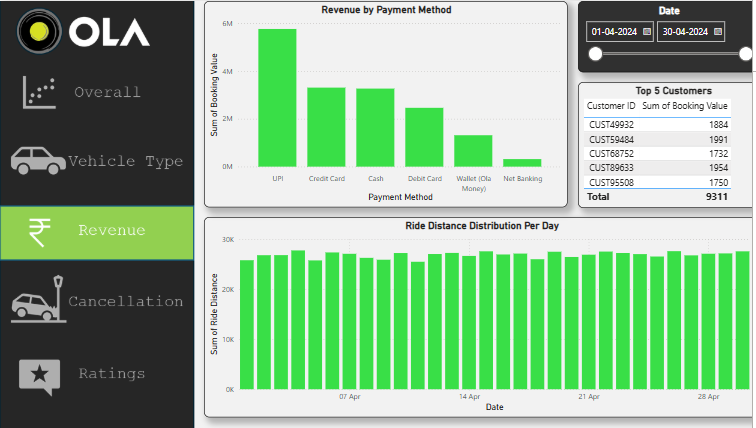

This screenshot's page, from the dashboard's own definition file:
{"tool":"powerbi","page":{"name":"Revenue","canvas":[1280,720],"ordinal":2},"visuals":[{"type":"actionButton","box":[0,455,325,93.3],"z":0},{"type":"actionButton","box":[0,110,325,93.3],"z":1000},{"type":"actionButton","box":[0,571.7,325,93.3],"z":2000},{"type":"actionButton","box":[0,225,325,93.3],"z":3000},{"type":"columnChart","title":" Revenue by Payment Method","fields":{"Y":["Sum(Bookings.Booking Value)"],"Category":["Bookings.Payment Method"]},"box":[339.3,0,606.4,344.4],"z":4000},{"type":"columnChart","title":" Ride Distance Distribution Per Day","fields":{"Y":["Sum(Bookings.Ride Distance)"],"Category":["Bookings.Date"]},"box":[339.3,359.5,925.6,334.3],"z":5000},{"type":"slicer","title":"Date","fields":{"Values":["Bookings.Date"]},"box":[962.5,0,302.4,119.3],"z":6000},{"type":"tableEx","title":"Top 5 Customers","fields":{"Values":["Bookings.Customer ID","Sum(Bookings.Booking Value)"]},"box":[962.5,134.4,317.5,210],"z":7000}]}

Visuals, with their boxes in screenshot pixels (x1, y1, x2, y2), scaled from the page's 1280x720 canvas onto the 756x428 screenshot:
actionButton: x1=0, y1=270, x2=192, y2=326
actionButton: x1=0, y1=65, x2=192, y2=121
actionButton: x1=0, y1=340, x2=192, y2=395
actionButton: x1=0, y1=134, x2=192, y2=189
" Revenue by Payment Method" columnChart: x1=200, y1=0, x2=559, y2=205
" Ride Distance Distribution Per Day" columnChart: x1=200, y1=214, x2=747, y2=412
"Date" slicer: x1=568, y1=0, x2=747, y2=71
"Top 5 Customers" tableEx: x1=568, y1=80, x2=755, y2=205
